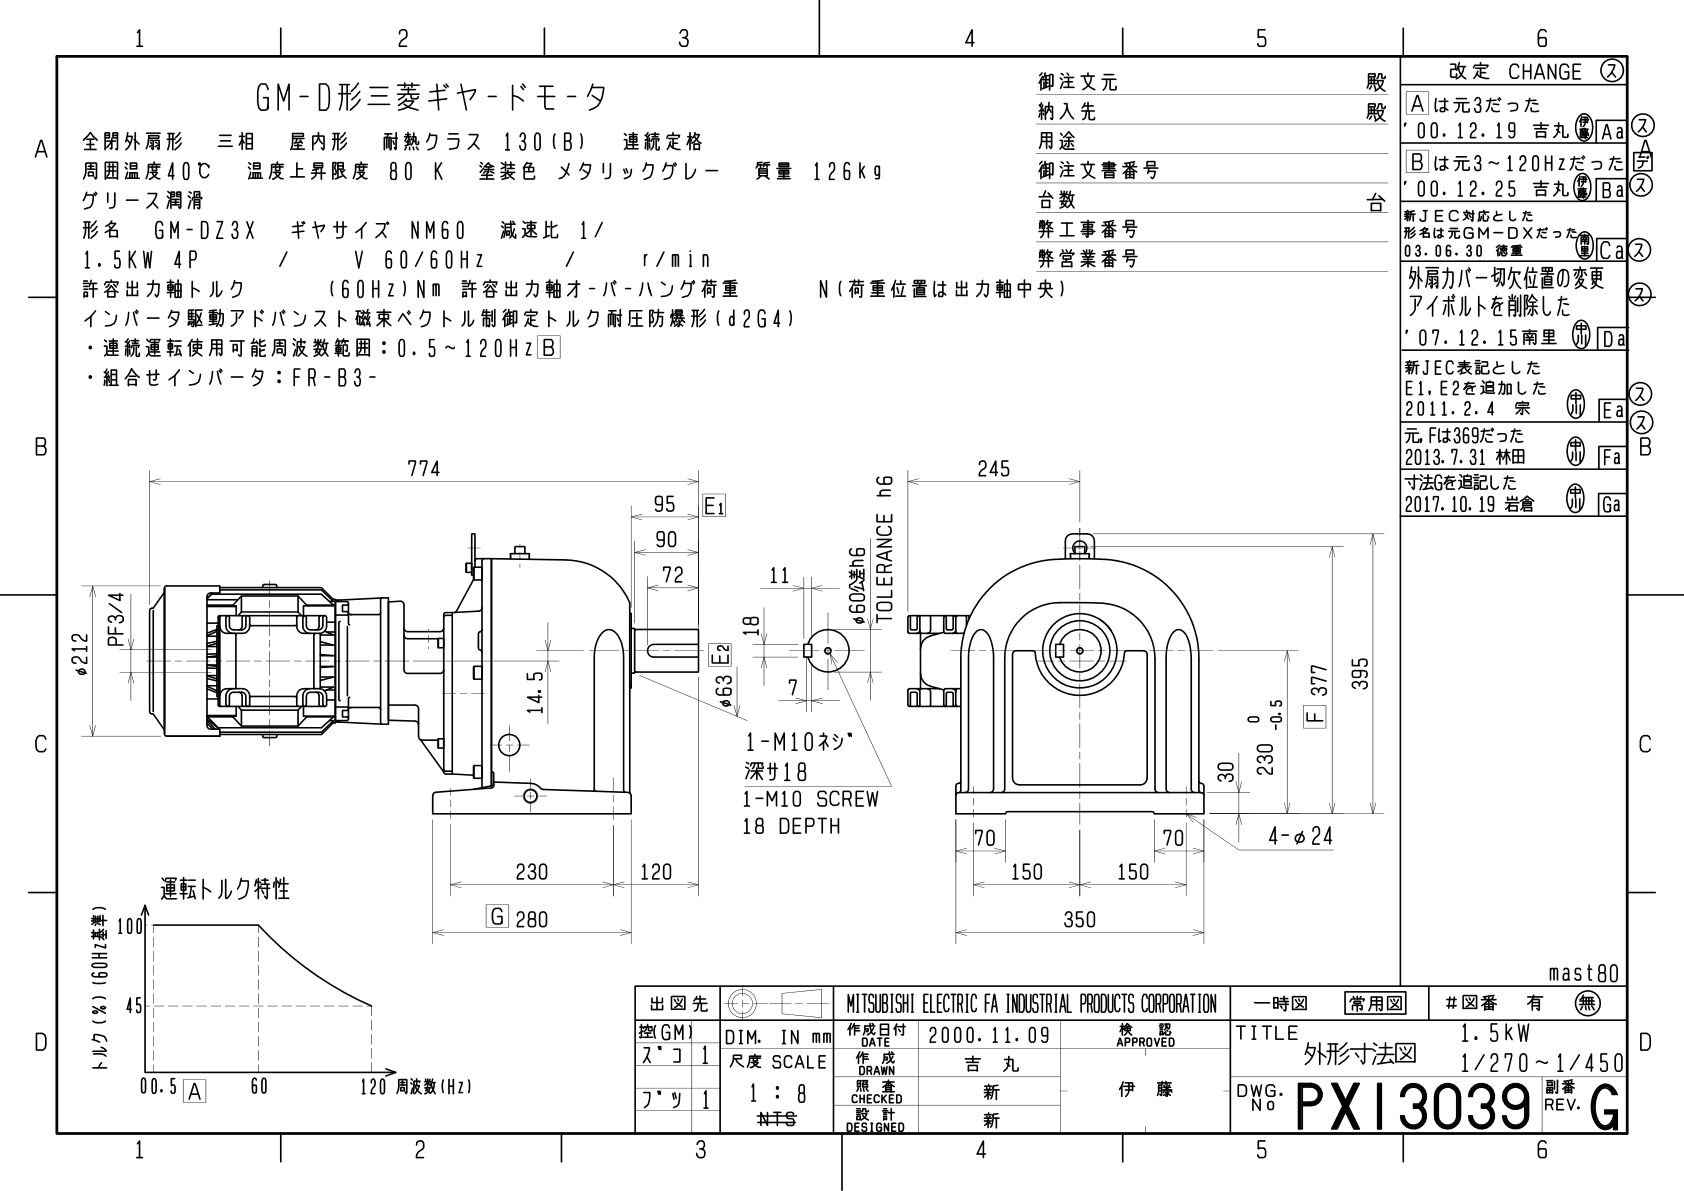GM_D_制御屋内_三相_脚: (1, 1, 1667, 1181)
